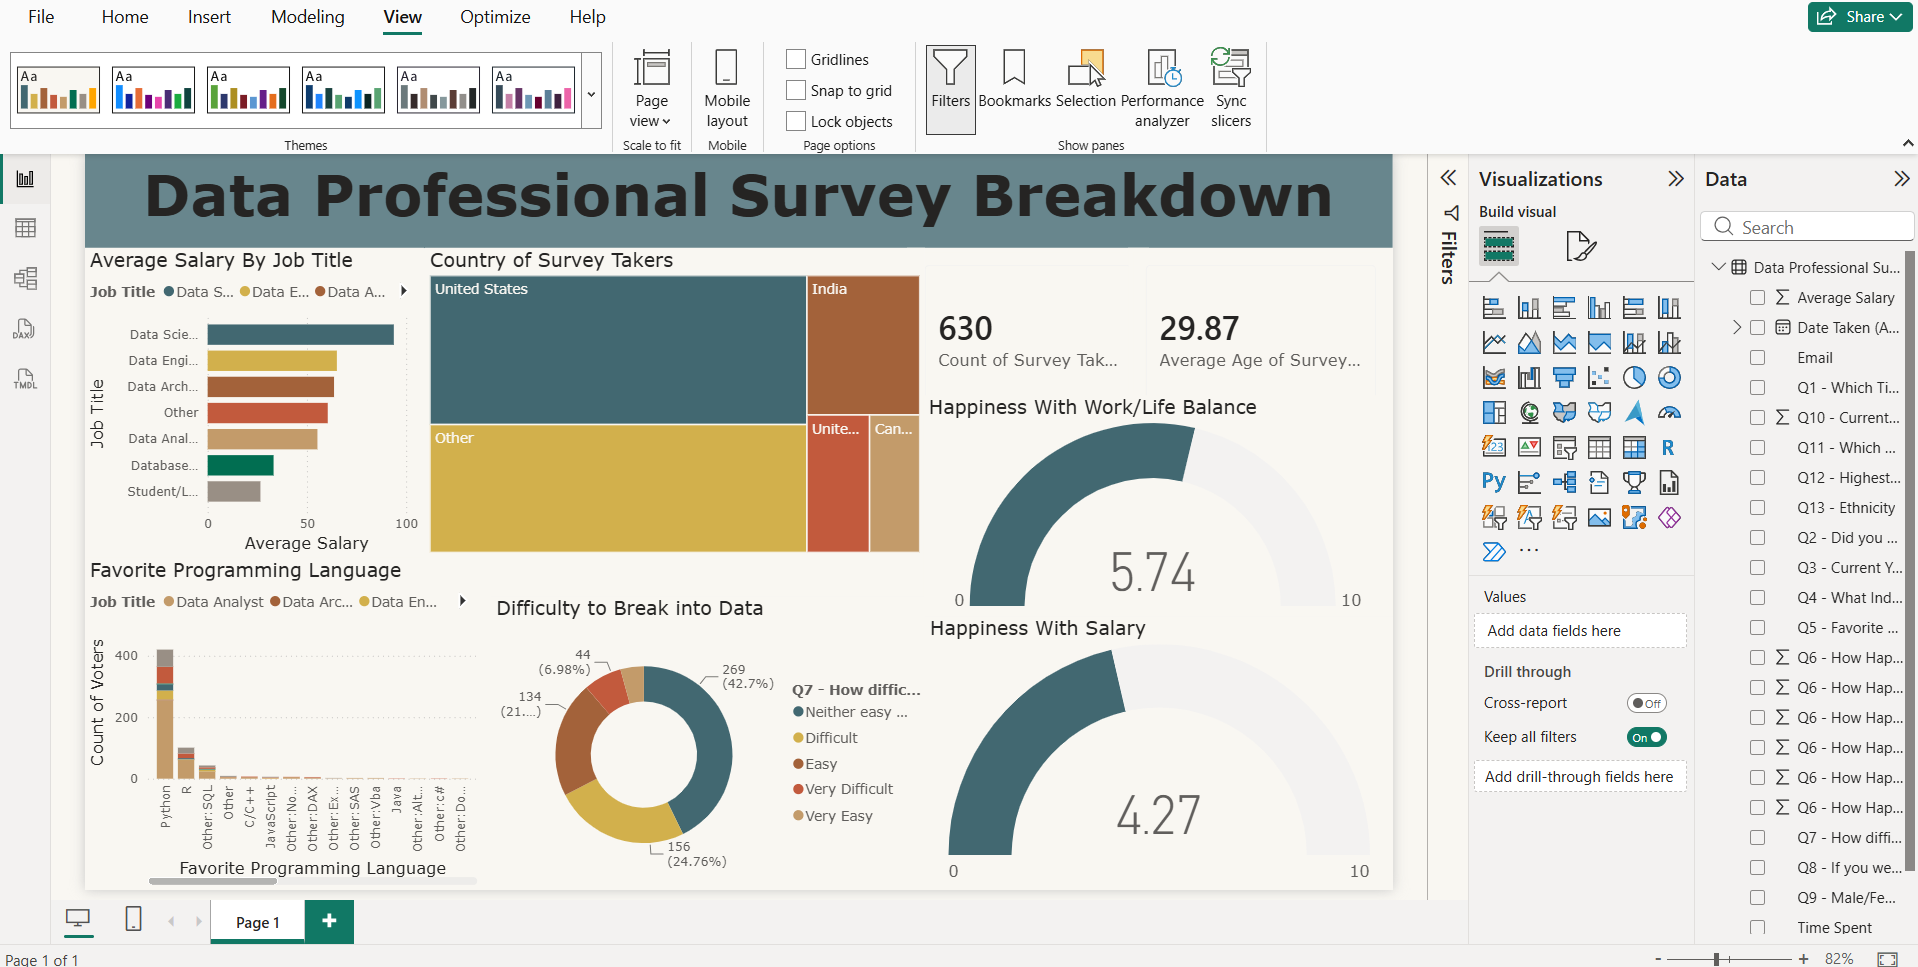

Layout of this report page (visuals, bound fields, positions):
{"tool":"powerbi","page":{"name":"Page 1","canvas":[1280,720],"ordinal":0},"visuals":[{"type":"textbox","box":[0,0,1279.1,91.7],"z":0},{"type":"cardVisual","fields":{"Data":["CountNonNull(Data Professional Survey.Unique ID)"]},"box":[804.6,91.7,236,173.6],"z":1},{"type":"cardVisual","fields":{"Data":["Avg(Data Professional Survey.Q10 - Current Age)"]},"box":[1021.1,91.7,259.2,173.6],"z":2},{"type":"barChart","title":"Average Salary By Job Title","fields":{"Category":["Data Professional Survey.Q1 - Which Title Best Fits your Current Role?.1"],"Y":["Avg(Data Professional Survey.Average Salary)"],"Series":["Data Professional Survey.Q1 - Which Title Best Fits your Current Role?.1"]},"box":[0,91.7,331.4,303.3],"z":3},{"type":"columnChart","title":"Favorite Programming Language","fields":{"Category":["Data Professional Survey.Q5 - Favorite Programming Language"],"Y":["CountNonNull(Data Professional Survey.Unique ID)"],"Series":["Data Professional Survey.Q1 - Which Title Best Fits your Current Role?.1"]},"box":[0,395,388.9,325.3],"z":4},{"type":"treemap","title":"Country of Survey Takers","fields":{"Group":["Data Professional Survey.Q11 - Which Country do you live in?.1"],"Values":["CountNonNull(Data Professional Survey.Q11 - Which Country do you live in?.1)"]},"box":[332.6,91.7,489.1,303.3],"z":5},{"type":"gauge","title":"Happiness With Work/Life Balance","fields":{"Y":["Avg(Data Professional Survey.Q6 - How Happy are you in your Current Position with the following? (Work/Life Balance))"],"MinValue":["Min(Data Professional Survey.Q6 - How Happy are you in your Current Position with the following? (Work/Life Balance))1"],"MaxValue":["Max(Data Professional Survey.Q6 - How Happy are you in your Current Position with the following? (Work/Life Balance))2"]},"box":[820.5,236,458.6,216.4],"z":6},{"type":"gauge","title":"Happiness With Salary","fields":{"Y":["Avg(Data Professional Survey.Q6 - How Happy are you in your Current Position with the following? (Salary))"],"MinValue":["Min(Data Professional Survey.Q6 - How Happy are you in your Current Position with the following? (Salary))"],"MaxValue":["Max(Data Professional Survey.Q6 - How Happy are you in your Current Position with the following? (Salary))1"]},"box":[821.7,452.4,458.6,267.8],"z":7},{"type":"donutChart","title":"Difficulty to Break into Data","fields":{"Category":["Data Professional Survey.Q7 - How difficult was it for you to break into Data?"],"Y":["CountNonNull(Data Professional Survey.Q7 - How difficult was it for you to break into Data?)"]},"box":[397.4,432.9,423.1,287.4],"z":8}]}

Visuals, with their boxes on the page's 1280x720 design canvas (x1, y1, x2, y2). These are canvas units, not pixel positions in the 1918x967 screenshot, which may show the page scaled, cropped or inside an application window:
textbox: left=0, top=0, right=1279, bottom=92
cardVisual - CountNonNull(Data Professional Survey.Unique ID): left=805, top=92, right=1041, bottom=265
cardVisual - Avg(Data Professional Survey.Q10 - Current Age): left=1021, top=92, right=1280, bottom=265
"Average Salary By Job Title" barChart: left=0, top=92, right=331, bottom=395
"Favorite Programming Language" columnChart: left=0, top=395, right=389, bottom=720
"Country of Survey Takers" treemap: left=333, top=92, right=822, bottom=395
"Happiness With Work/Life Balance" gauge: left=820, top=236, right=1279, bottom=452
"Happiness With Salary" gauge: left=822, top=452, right=1280, bottom=720
"Difficulty to Break into Data" donutChart: left=397, top=433, right=820, bottom=720
